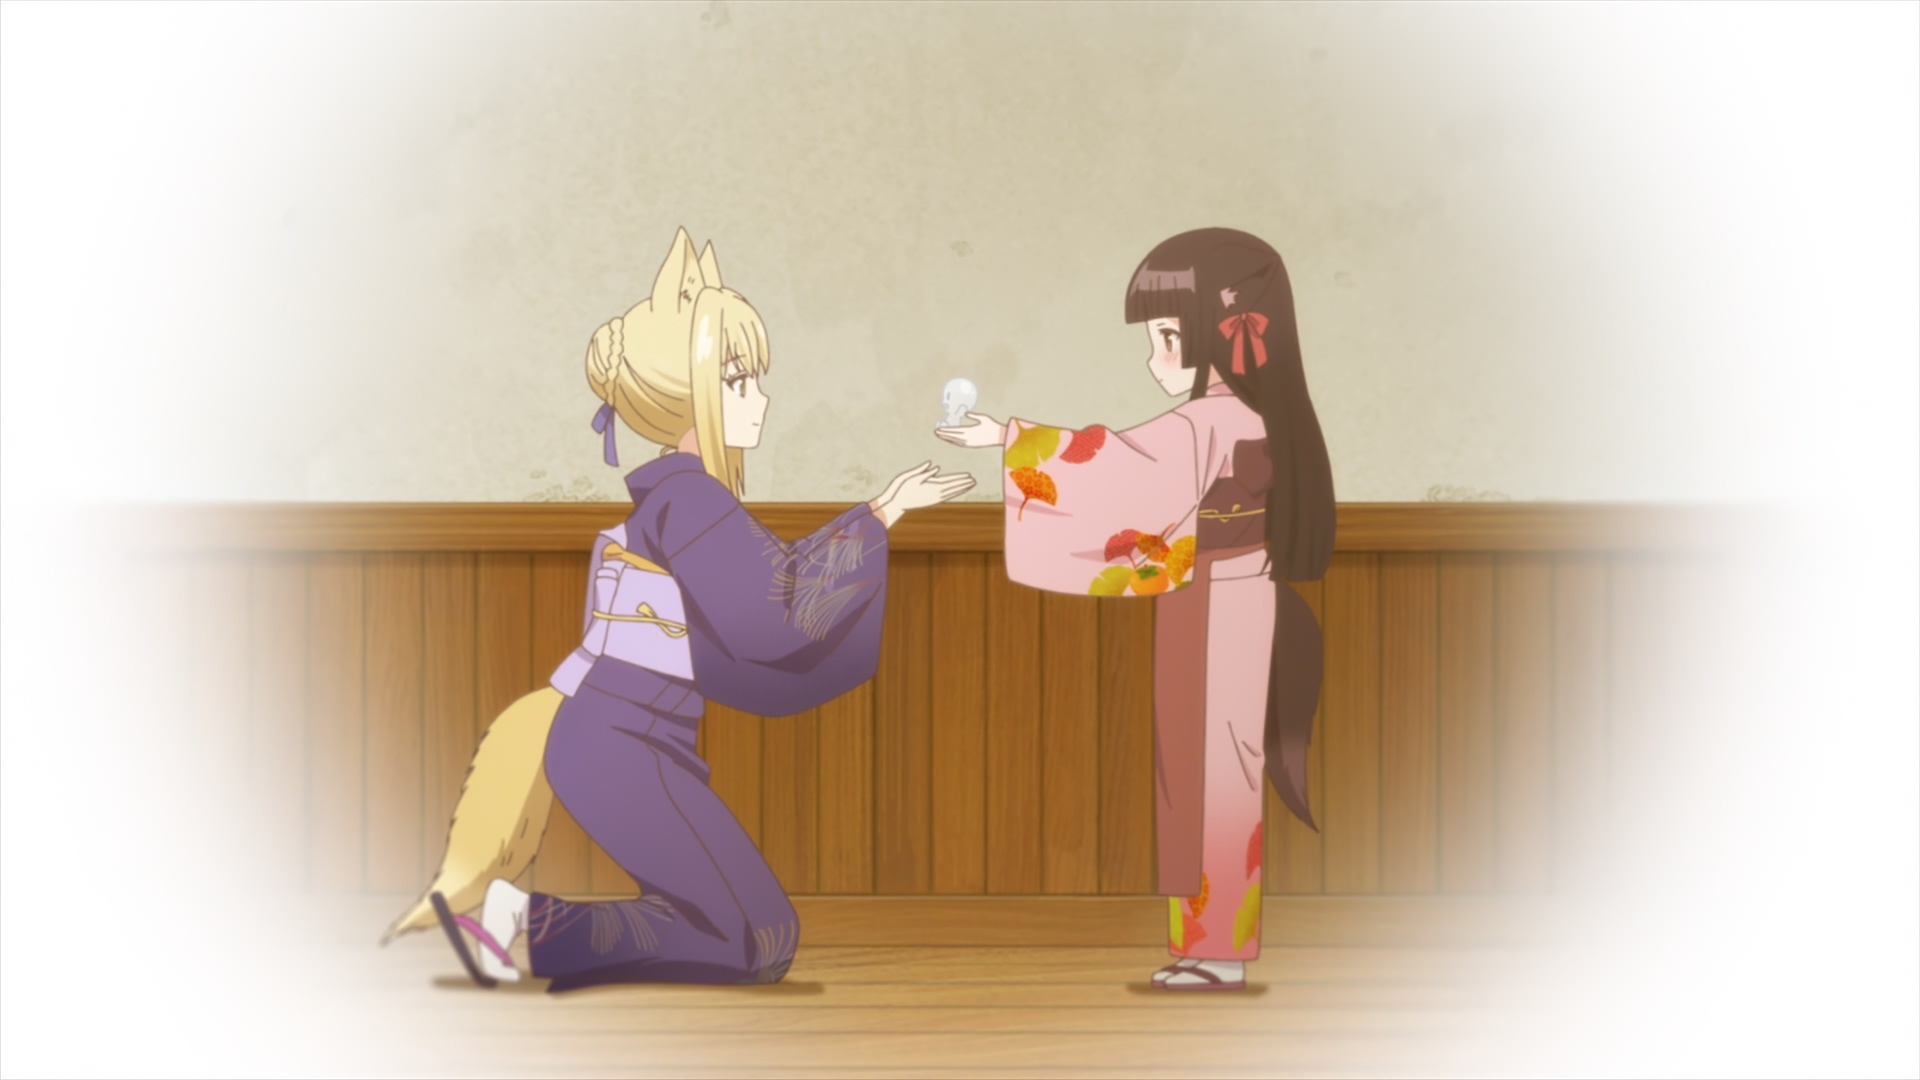桐: (382, 227, 975, 994)
樱: (934, 228, 1338, 997)
